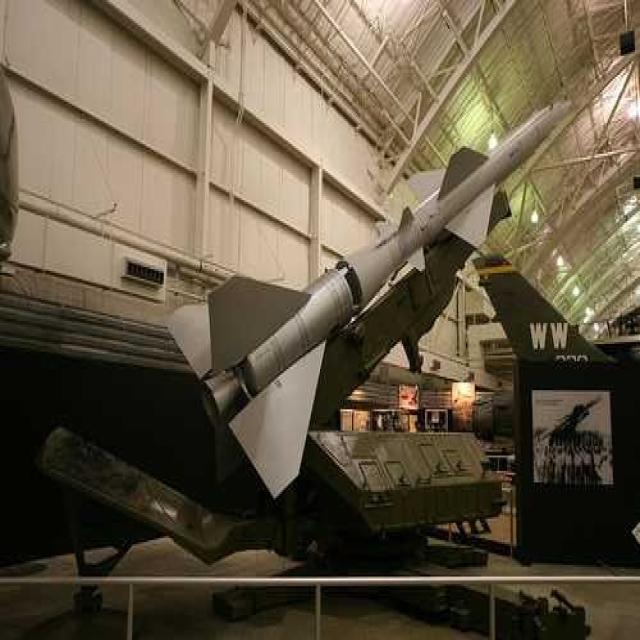missile: (184, 98, 575, 513)
